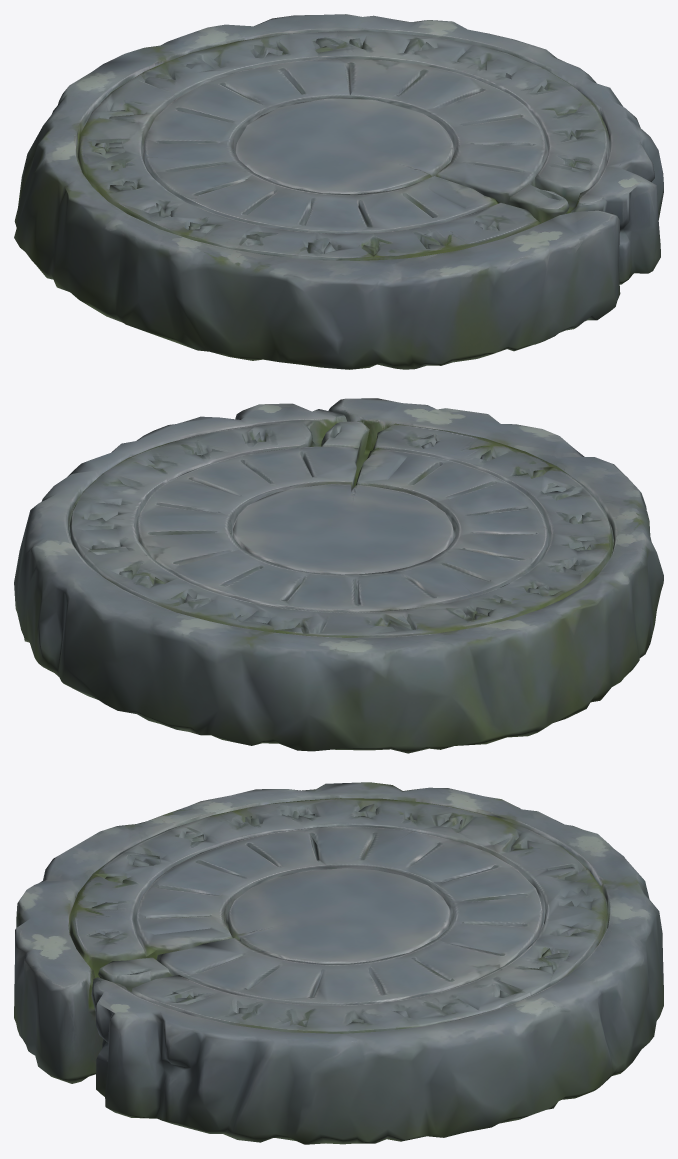
File: losa-patio.glb
The picture shows the model from 3 angles, top to bottom: view 1: azimuth 30°, elevation 25°; view 2: azimuth 150°, elevation 25°; view 3: azimuth 270°, elevation 25°; orthographic projection. The views are drawn at different scales.
Visible parts, largest first — view 1: tripo_node_015369d8-7daa-4bf0-838a-4cc1c2877cd7; view 2: tripo_node_015369d8-7daa-4bf0-838a-4cc1c2877cd7; view 3: tripo_node_015369d8-7daa-4bf0-838a-4cc1c2877cd7.
Boxes of the visible parts, x1,y1,x2,y2 form: tripo_node_015369d8-7daa-4bf0-838a-4cc1c2877cd7: (14,14,663,369); tripo_node_015369d8-7daa-4bf0-838a-4cc1c2877cd7: (14,398,663,753); tripo_node_015369d8-7daa-4bf0-838a-4cc1c2877cd7: (14,782,663,1144).
Bounding box in the file's own units: 0.9799 × 0.1745 × 0.978.
1 material, 1 textured.
